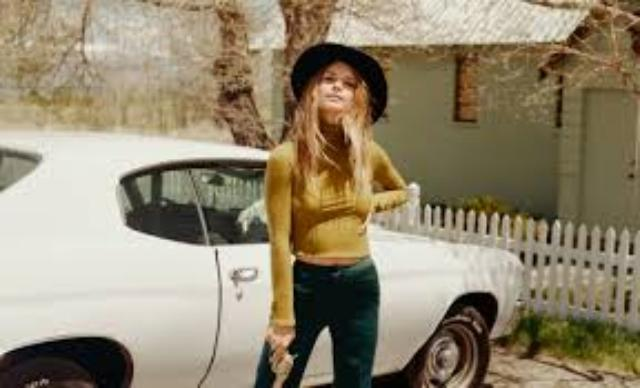chevelle-1972: (0, 129, 282, 387), (311, 224, 524, 387)
